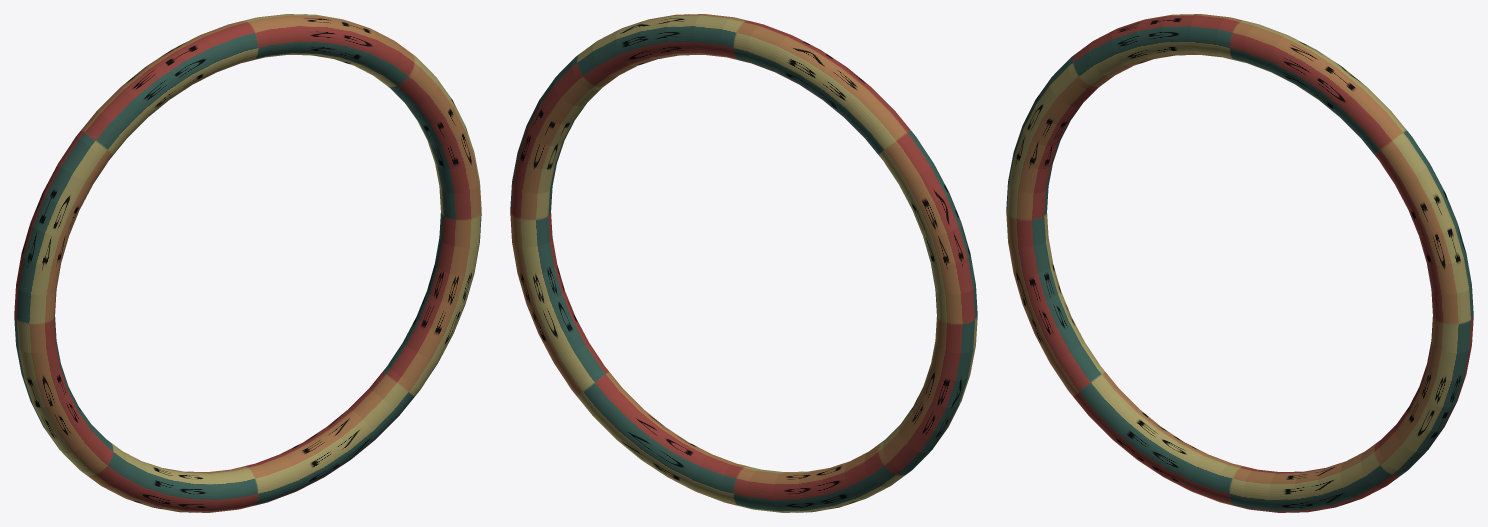
File: texture_torus_R26_r1.glb
3 renders of one model, left to right at view 1: azimuth 30°, elevation 25°; view 2: azimuth 150°, elevation 25°; view 3: azimuth 330°, elevation 25°, orthographic.
Parts seen in each view (by area): view 1: world; view 2: world; view 3: world.
Boxes of the visible parts, x1=… form: world: x1=14, y1=14, x2=481, y2=512; world: x1=510, y1=14, x2=977, y2=512; world: x1=1006, y1=14, x2=1473, y2=512.
Size of the model in its own units: 29.6 by 29.54 by 2.26.
Materials: 1 (1 with a texture image).
